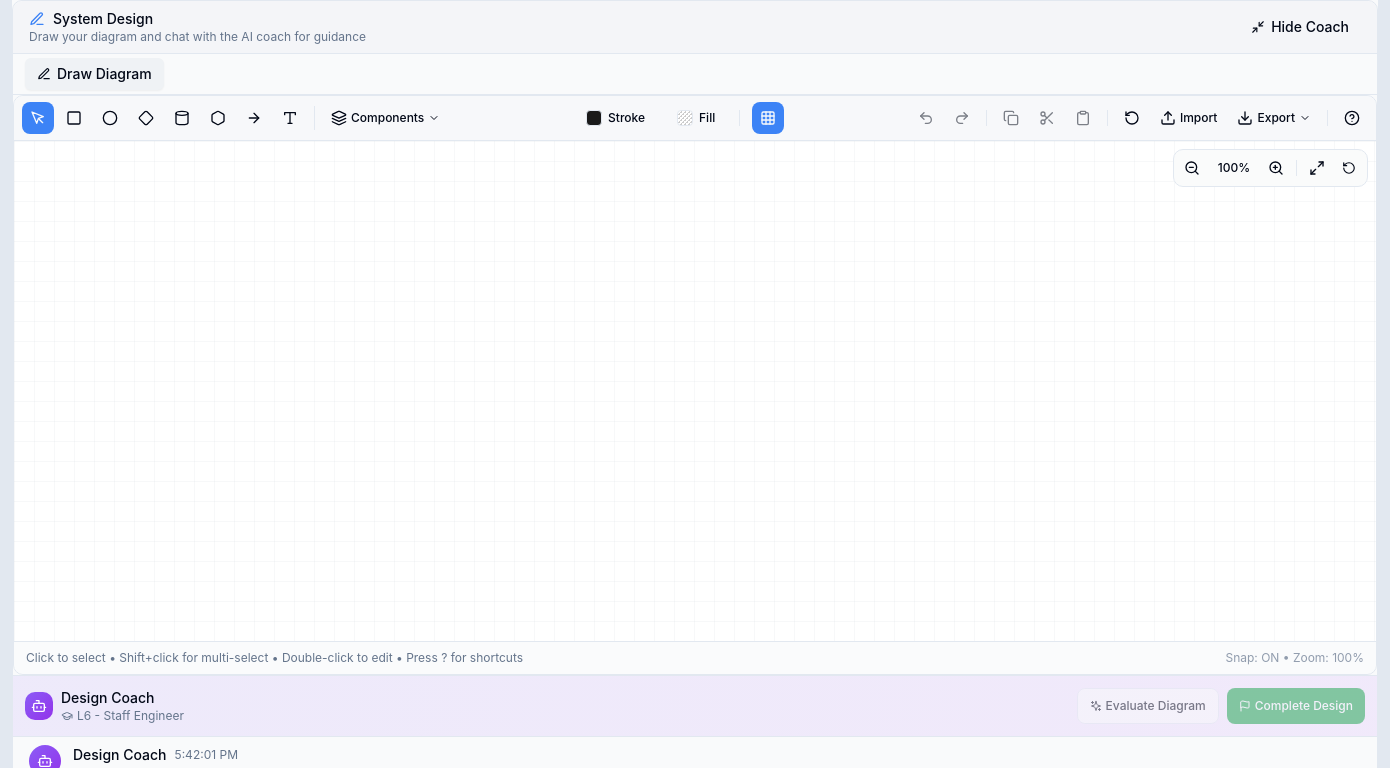
Scenario: DesignEditor › Toggle Coach Visibility › shows Show Coach button when chat is hidden
This screenshot has width=1390, height=768.
Click the button "Hide Coach" at (1300, 27), box x1=1239 y1=9 x2=1361 y2=45
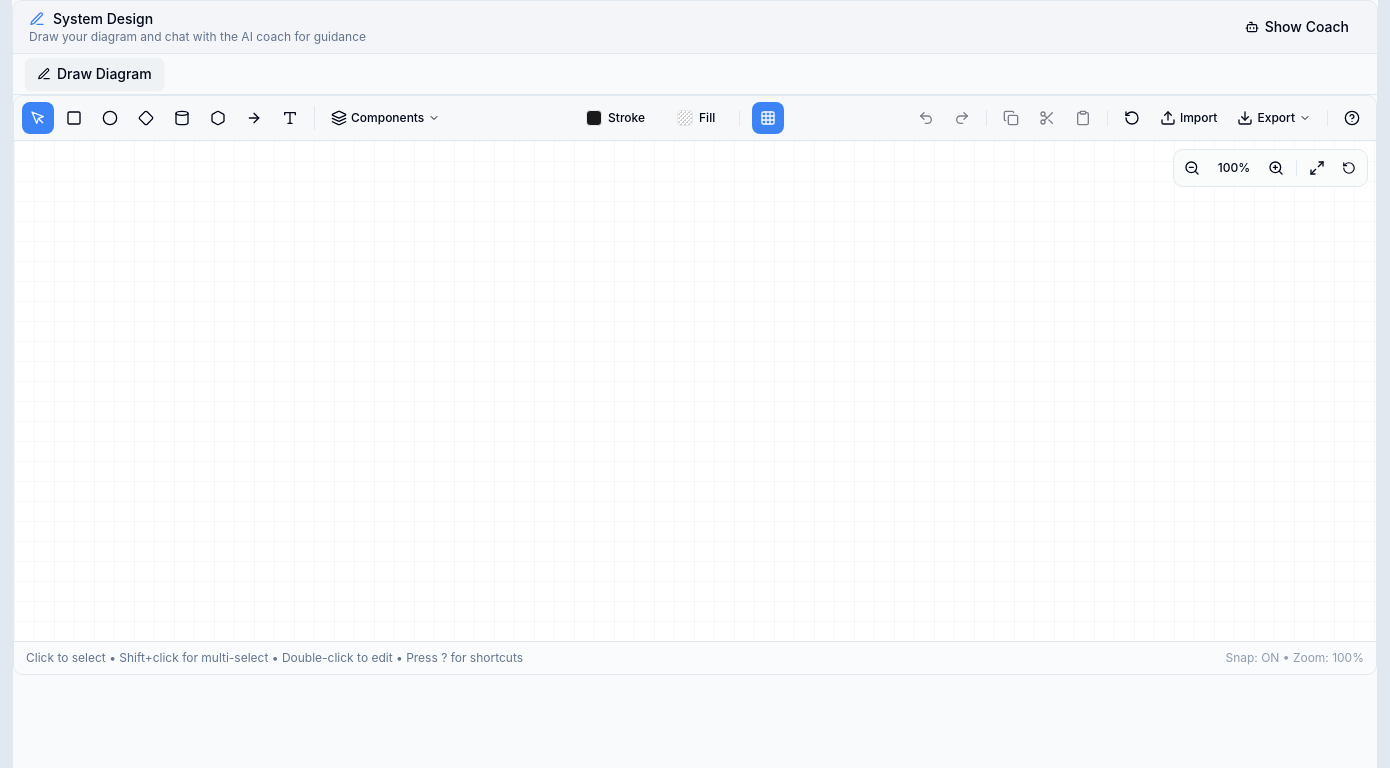
Expected: the text "Show Coach" is shown, x1=1265 y1=17 x2=1349 y2=37
